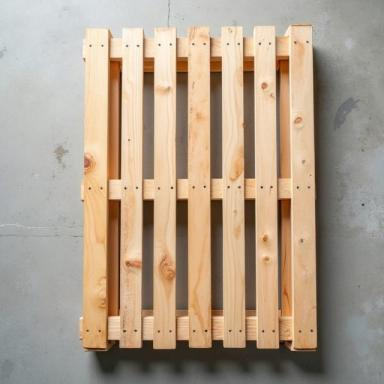pallet: (79, 24, 317, 352)
